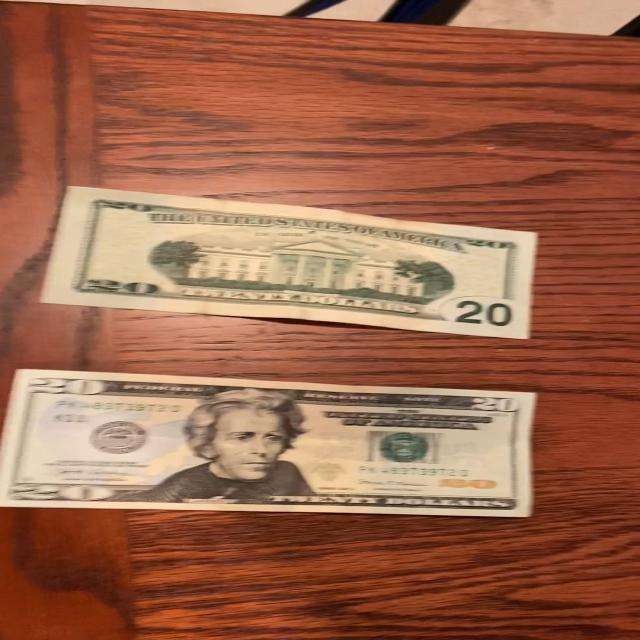20-Back: (31, 185, 563, 344)
20-Front: (0, 365, 545, 521)
